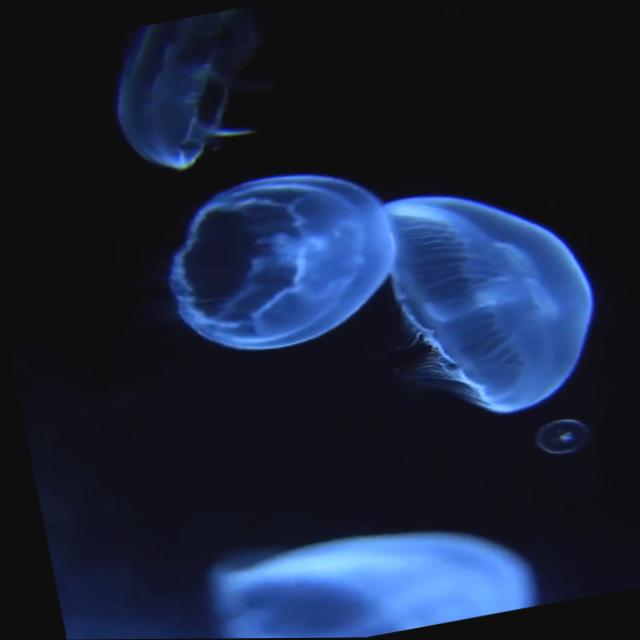Moon-jellyfish: (380, 194, 597, 416), (174, 172, 397, 351), (204, 533, 509, 639), (112, 2, 281, 171), (532, 417, 590, 458)
